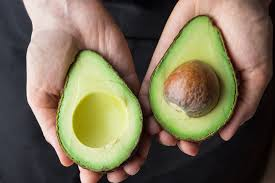aguacate: (147, 10, 245, 148), (50, 51, 146, 169)
